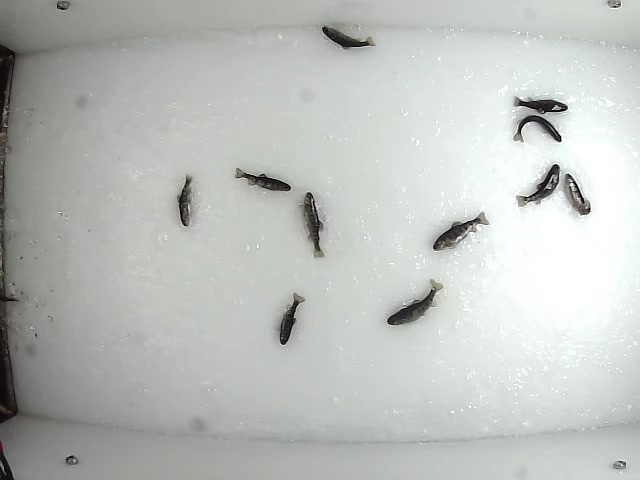fish: (384, 275, 447, 327), (429, 210, 492, 254), (513, 160, 560, 209), (298, 189, 330, 259), (272, 291, 307, 346), (235, 165, 294, 193), (511, 113, 564, 144), (319, 24, 378, 51), (562, 171, 593, 217), (173, 171, 195, 228), (512, 95, 569, 116)
